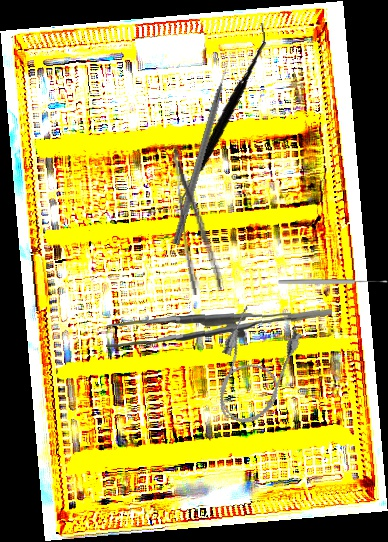Cannula: (201, 304, 305, 432)
Dressing Forceps: (169, 144, 225, 296)
Hook Surgical: (171, 51, 236, 247)
Spatula Surgical: (161, 22, 283, 219)
Surgical Spoon: (278, 279, 388, 285)
Tissue Forceps: (106, 301, 332, 355)
